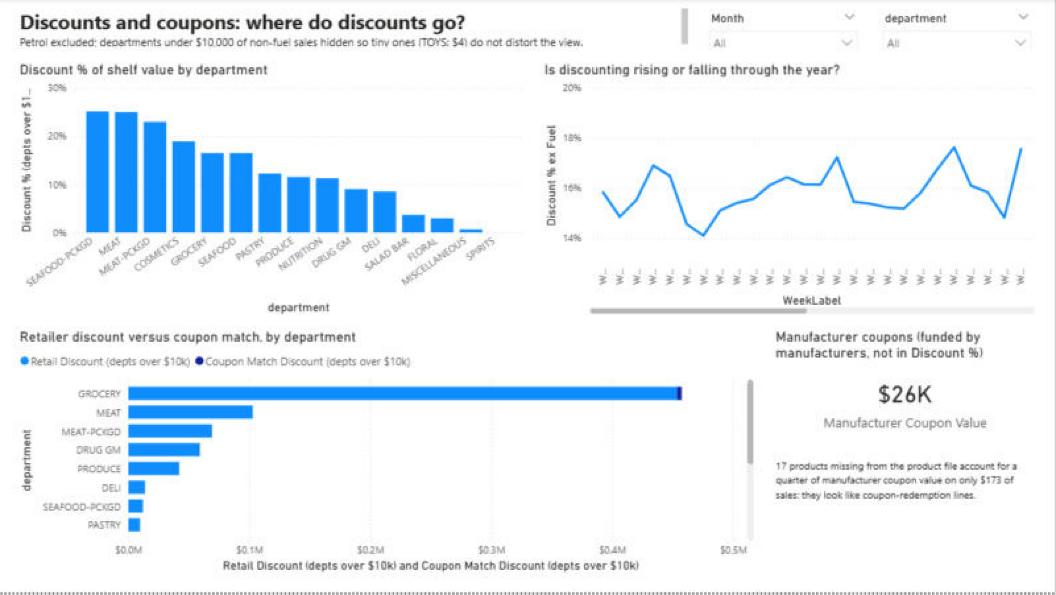

The dashboard page shown, as its layout file describes it:
{"tool":"powerbi","page":{"name":"Discounts","canvas":[1280,720],"ordinal":3},"visuals":[{"type":"textbox","box":[20,8,820,56],"z":1000},{"type":"slicer","fields":{"Values":["Dim_Date.Month"]},"box":[850,10,200,52],"z":2000},{"type":"slicer","fields":{"Values":["Dim_Product.department"]},"box":[1060,10,200,52],"z":3000},{"type":"clusteredColumnChart","title":"Discount % of shelf value by department","fields":{"Category":["Dim_Product.department"],"Y":["_Measures.Discount % (depts over $10k)"]},"box":[20,76,620,312],"z":4000},{"type":"lineChart","title":"Is discounting rising or falling through the year?","fields":{"Category":["Dim_Date.WeekLabel"],"Y":["_Measures.Discount % ex Fuel"]},"box":[656,76,604,312],"z":5000},{"type":"barChart","title":"Retailer discount versus coupon match, by department","fields":{"Category":["Dim_Product.department"],"Y":["_Measures.Retail Discount (depts over $10k)","_Measures.Coupon Match Discount (depts over $10k)"]},"box":[20,400,900,300],"z":6000},{"type":"card","title":"Manufacturer coupons (funded by manufacturers, not in Discount %)","fields":{"Values":["_Measures.Manufacturer Coupon Value"]},"box":[936,400,324,140],"z":7000},{"type":"textbox","box":[936,552,324,148],"z":8000}]}

Visuals, with their boxes in screenshot pixels (x1, y1, x2, y2), scaled from the page's 1280x720 canvas onto the 1056x595 screenshot:
textbox: box=[16, 7, 693, 53]
slicer - Dim_Date.Month: box=[701, 8, 866, 51]
slicer - Dim_Product.department: box=[874, 8, 1040, 51]
"Discount % of shelf value by department" clusteredColumnChart: box=[16, 63, 528, 321]
"Is discounting rising or falling through the year?" lineChart: box=[541, 63, 1040, 321]
"Retailer discount versus coupon match, by department" barChart: box=[16, 331, 759, 578]
"Manufacturer coupons (funded by manufacturers, not in Discount %)" card: box=[772, 331, 1040, 446]
textbox: box=[772, 456, 1040, 578]
